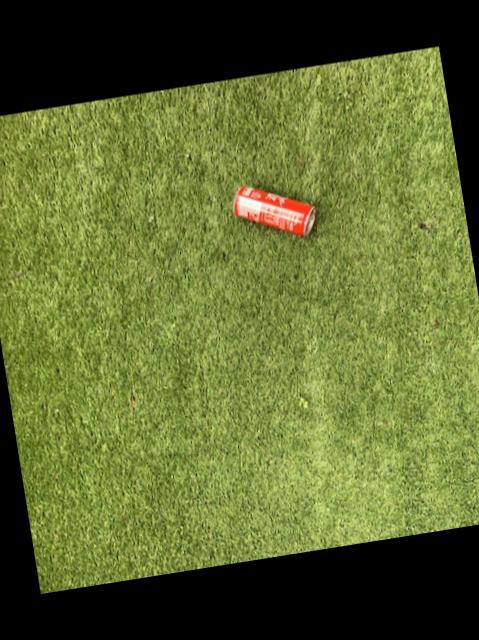metal: (234, 185, 316, 233)
